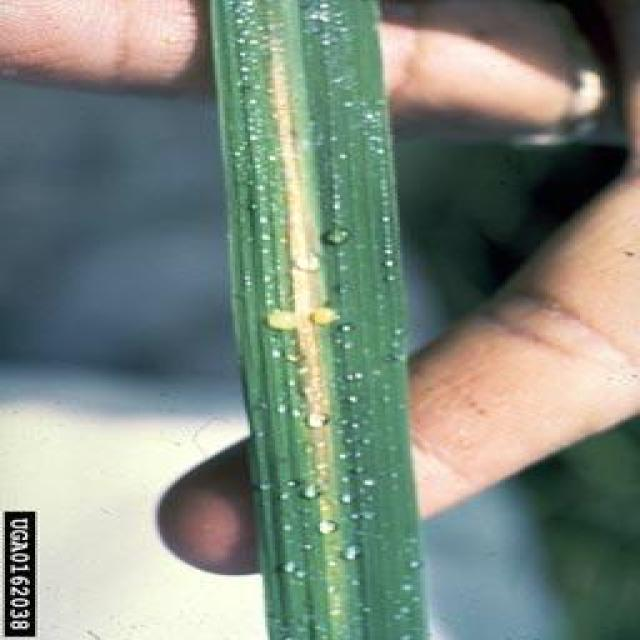Bacterial_Leaf_Blight: (250, 11, 360, 566)
